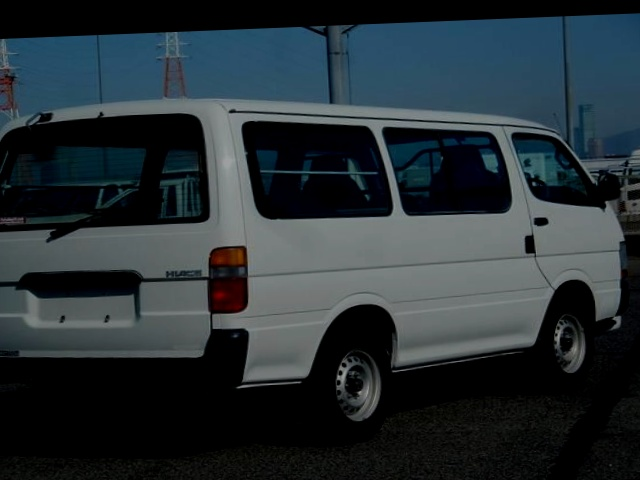van: (0, 77, 638, 439)
